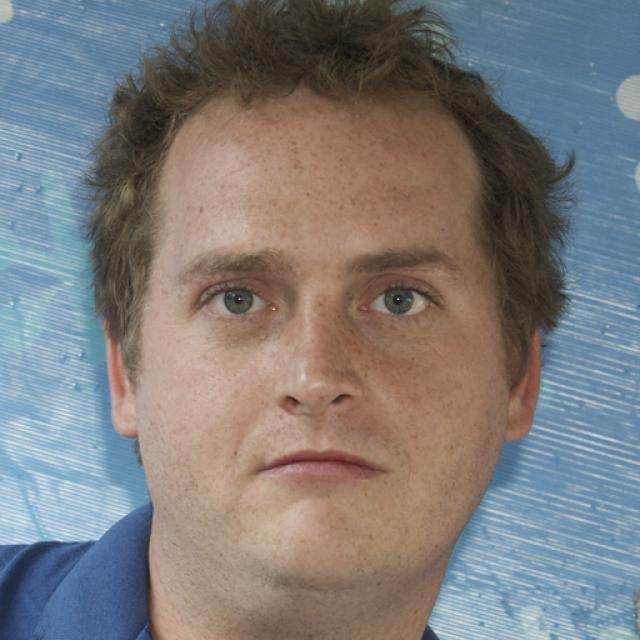Pigmentation: (212, 110, 311, 171), (308, 289, 368, 387), (336, 176, 431, 233), (338, 113, 418, 167), (233, 188, 307, 245), (362, 340, 417, 411)
